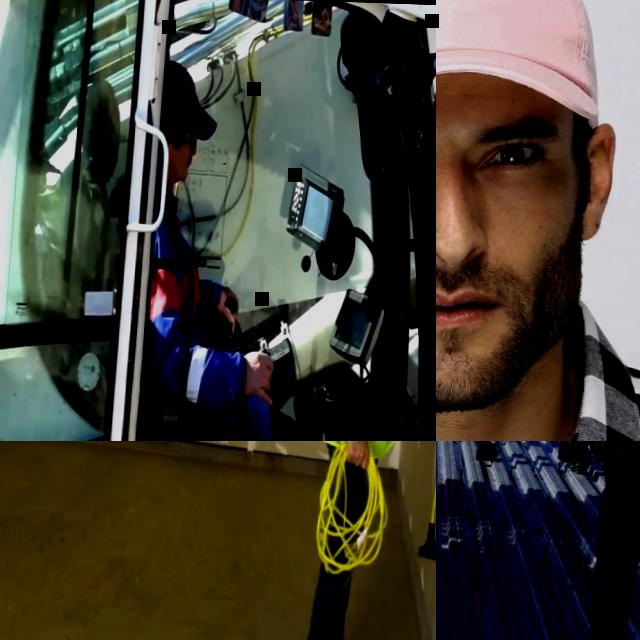machinery: (0, 0, 436, 441)
no_helmet: (436, 0, 608, 158), (161, 60, 203, 140)
no_mask: (436, 251, 570, 412), (170, 150, 193, 178)
person: (436, 0, 640, 441), (134, 64, 300, 441), (306, 441, 436, 640), (569, 441, 640, 640)
vest: (148, 216, 213, 415)
